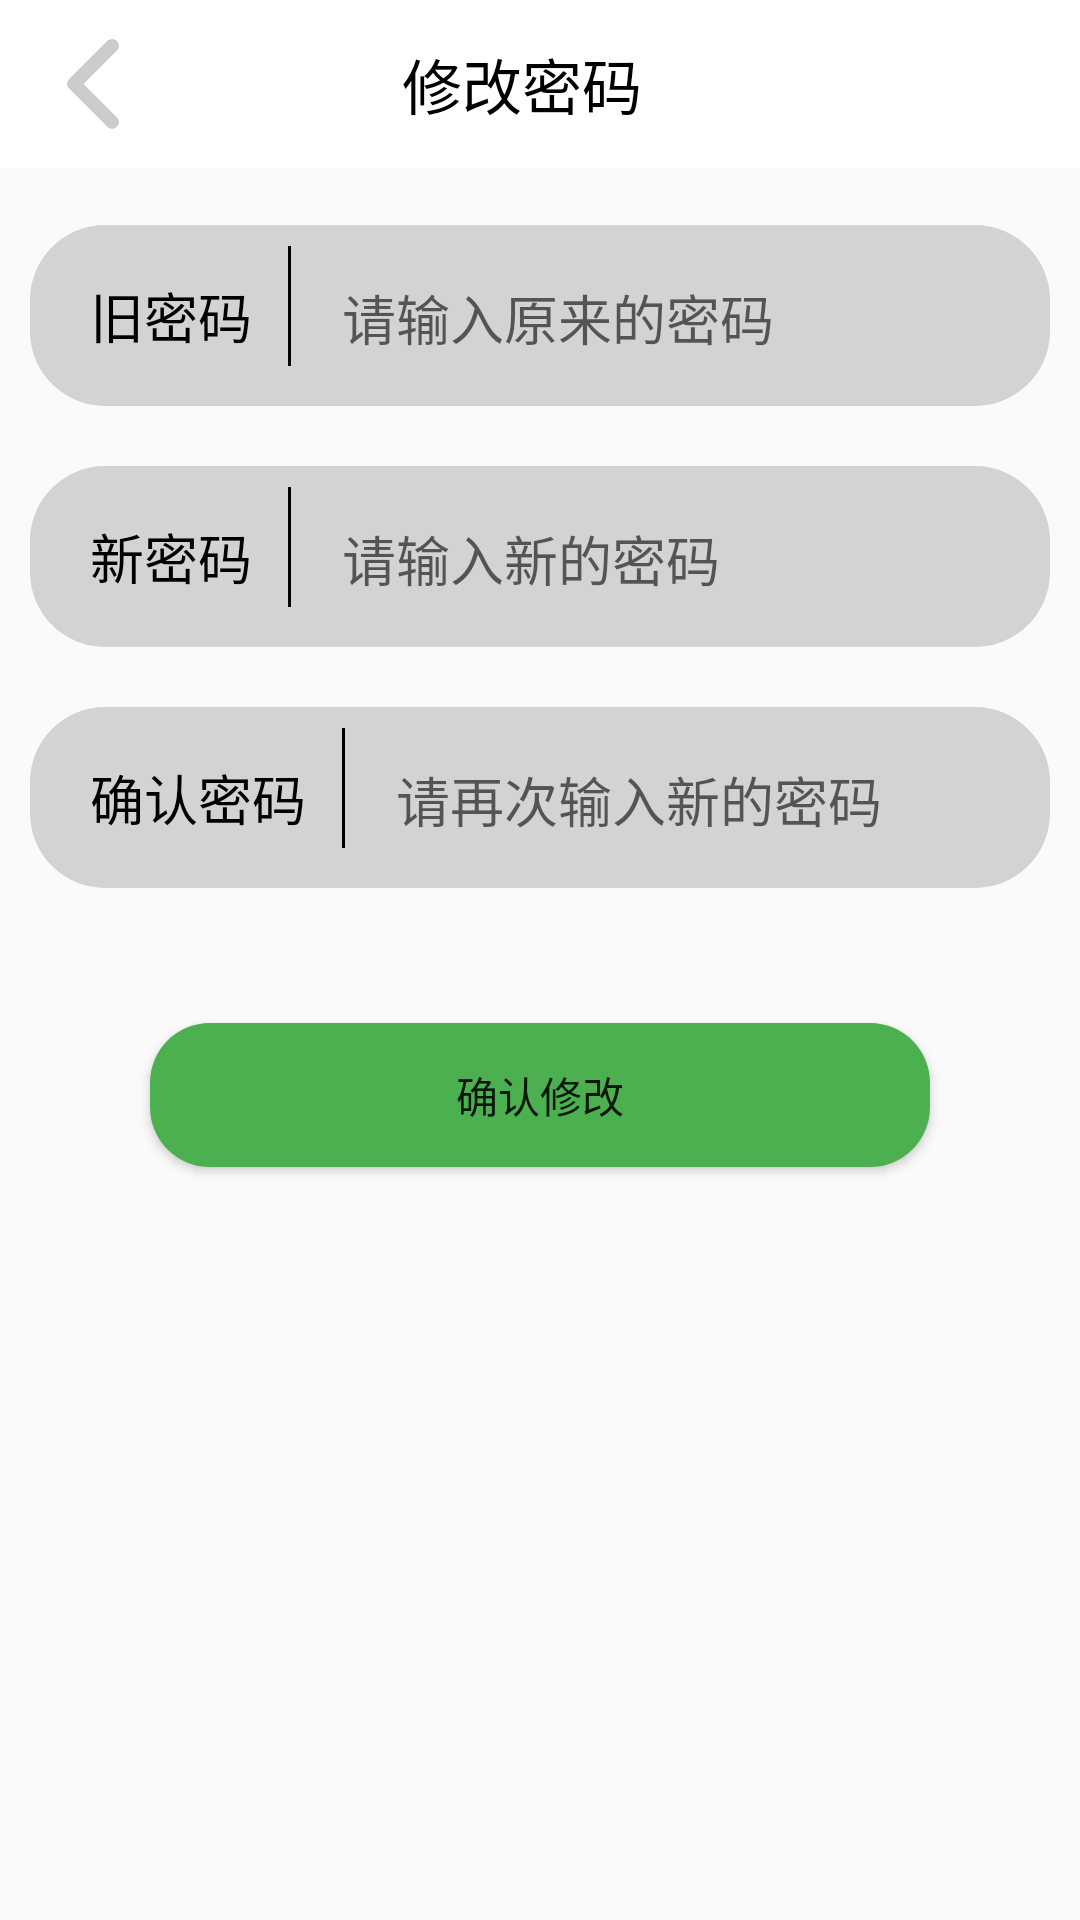

Icons on this 1080×1920 Android screen, each with its box as [x1,y1,x2,y2]:
arrow left: [67,39,119,129]
